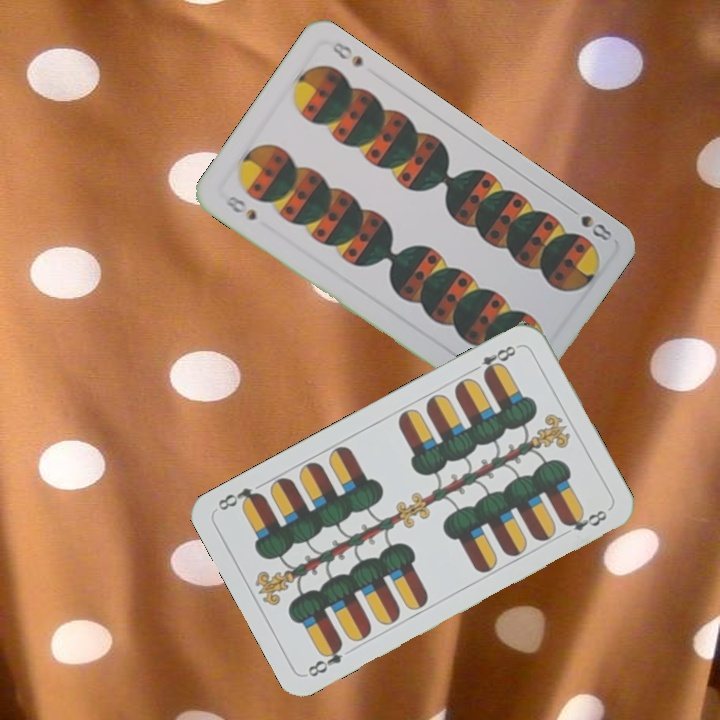E8: (467, 341, 519, 380), (304, 638, 346, 680)
S8: (563, 202, 615, 244), (220, 191, 260, 223)
